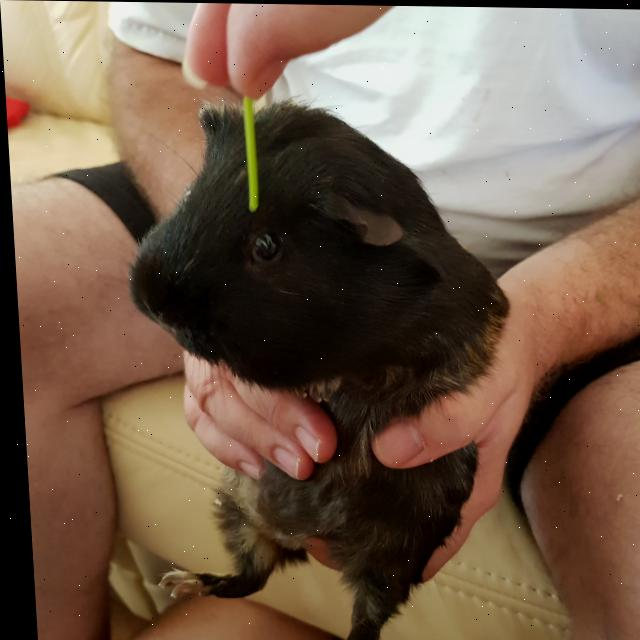guinea pig: (115, 94, 526, 640)
